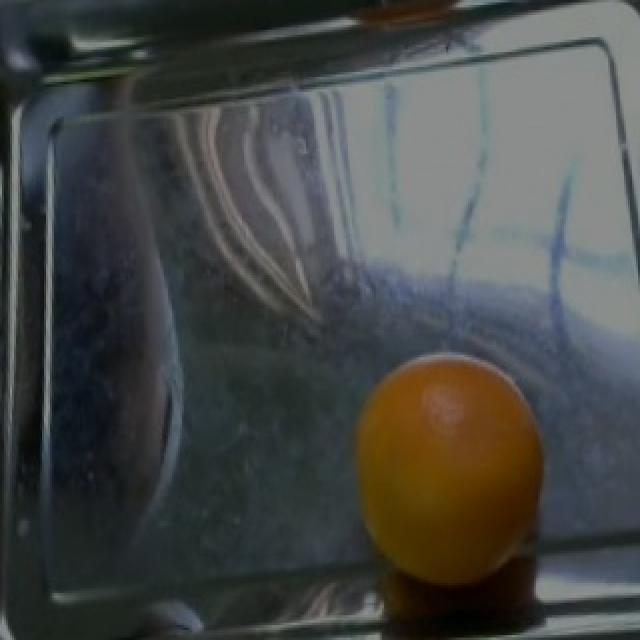Fruit: (344, 342, 556, 603)
